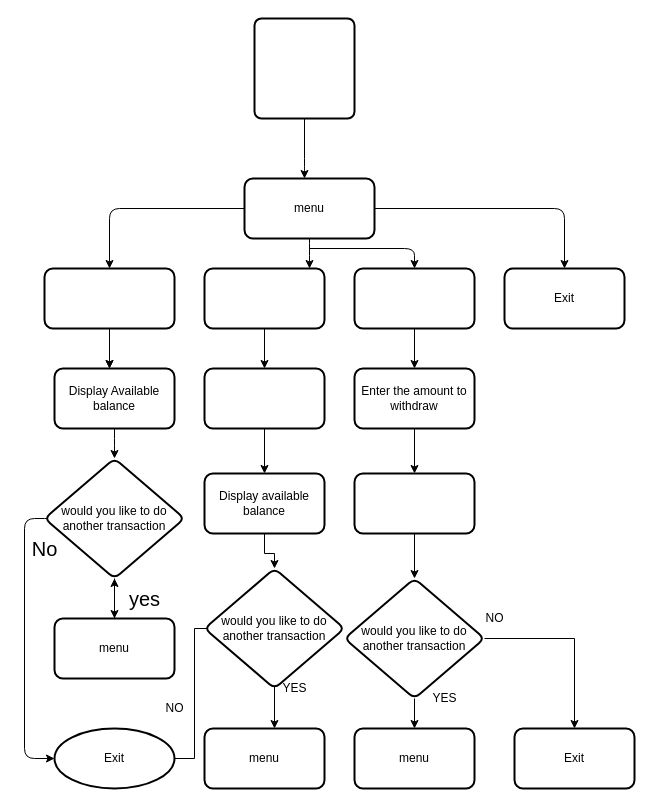
The diagram is 653 pixels wide and 806 high, and some of its shapes have lost their labels. Each missing label, with the box of its shape:
cash withdraw: (353, 267, 475, 329)
check balance: (43, 267, 175, 329)
Deposit: (203, 267, 325, 329)
Enter the amount to be deposited: (203, 367, 325, 429)
start: (253, 17, 355, 119)
take your withdraw money and available balance: (353, 472, 475, 534)
